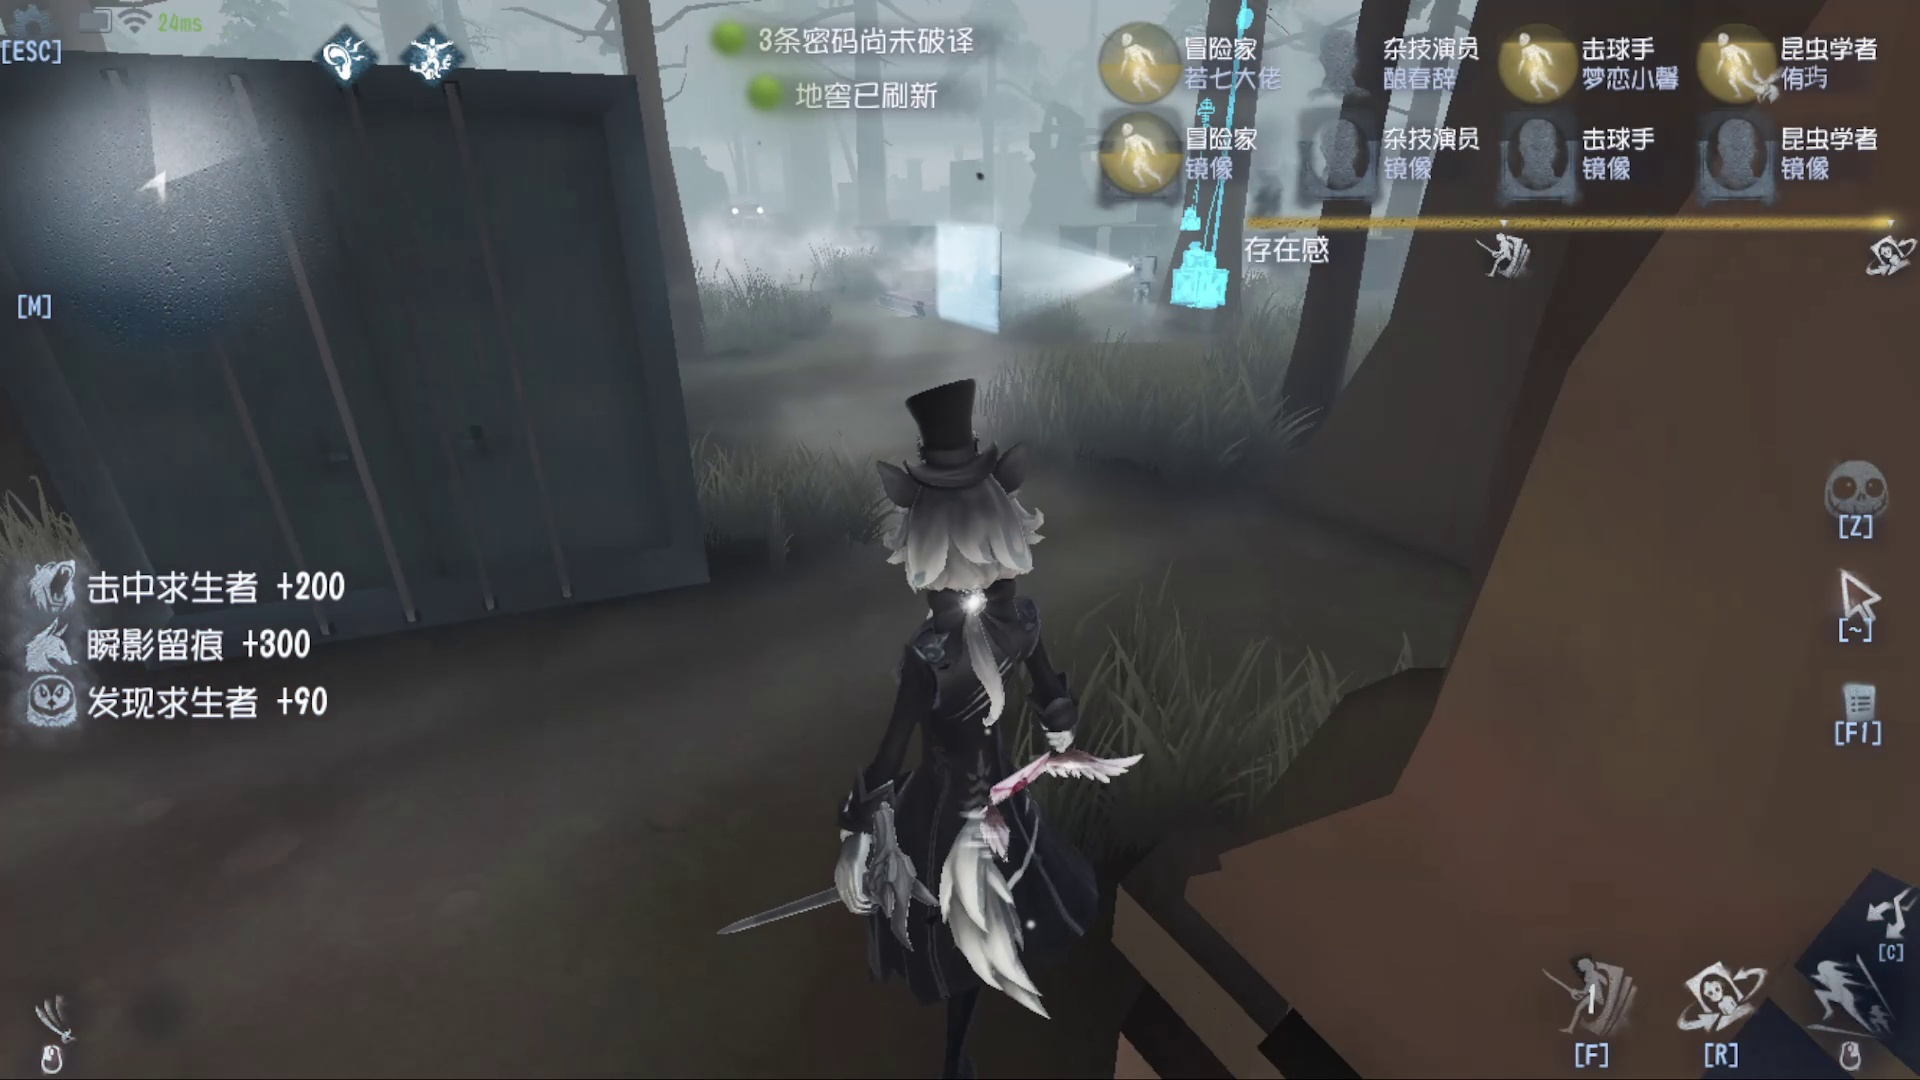密码机: (1191, 26, 1240, 323)
